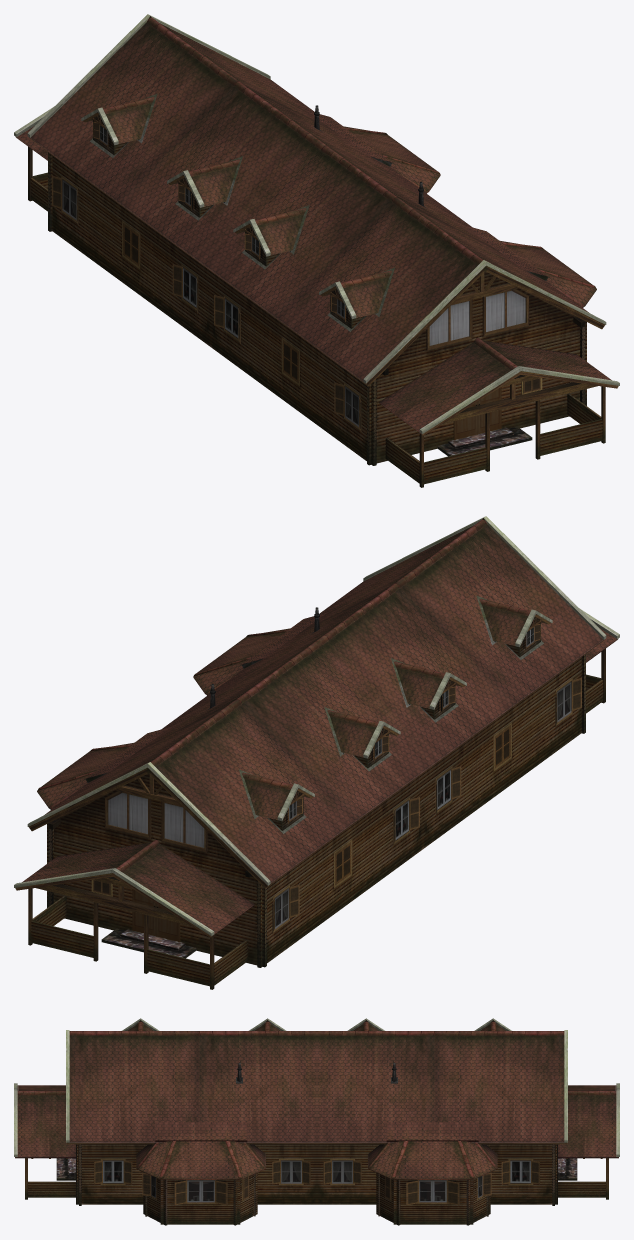
3 renders of one model, top to bottom at view 1: azimuth 30°, elevation 25°; view 2: azimuth 150°, elevation 25°; view 3: azimuth 270°, elevation 25°, orthographic. The views are drawn at different scales.
Parts seen in each view (by area): view 1: City_building_014_Untitled.028; view 2: City_building_014_Untitled.028; view 3: City_building_014_Untitled.028.
Part boxes in pixels (<box>): City_building_014_Untitled.028: <box>14,14,619,487</box>; City_building_014_Untitled.028: <box>14,516,619,989</box>; City_building_014_Untitled.028: <box>14,1018,619,1225</box>.
Bounding box in the file's own units: 9.91 × 5.91 × 23.79.
Materials: 1 (1 with a texture image).
